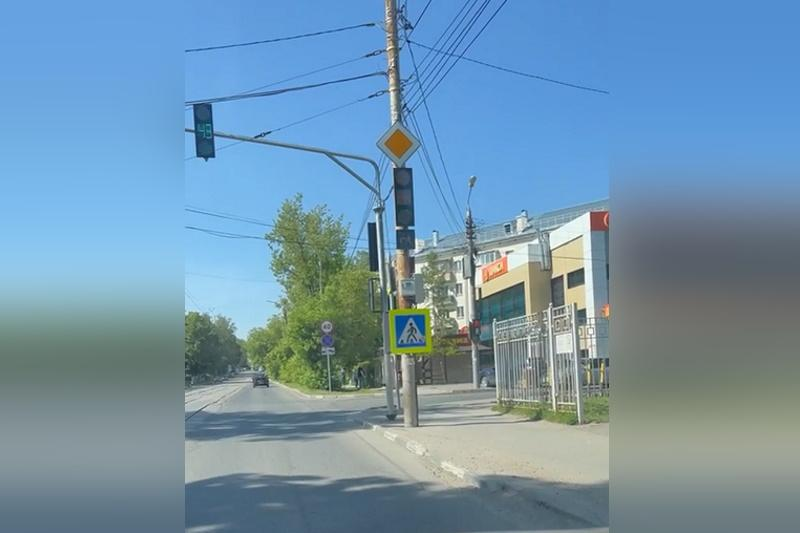off traffic light: (393, 168, 415, 226), (397, 230, 415, 248)
road_sign: (376, 121, 421, 168), (390, 310, 431, 352), (322, 334, 334, 347), (321, 321, 334, 333), (322, 347, 335, 354)
traffic light: (194, 103, 215, 158)
